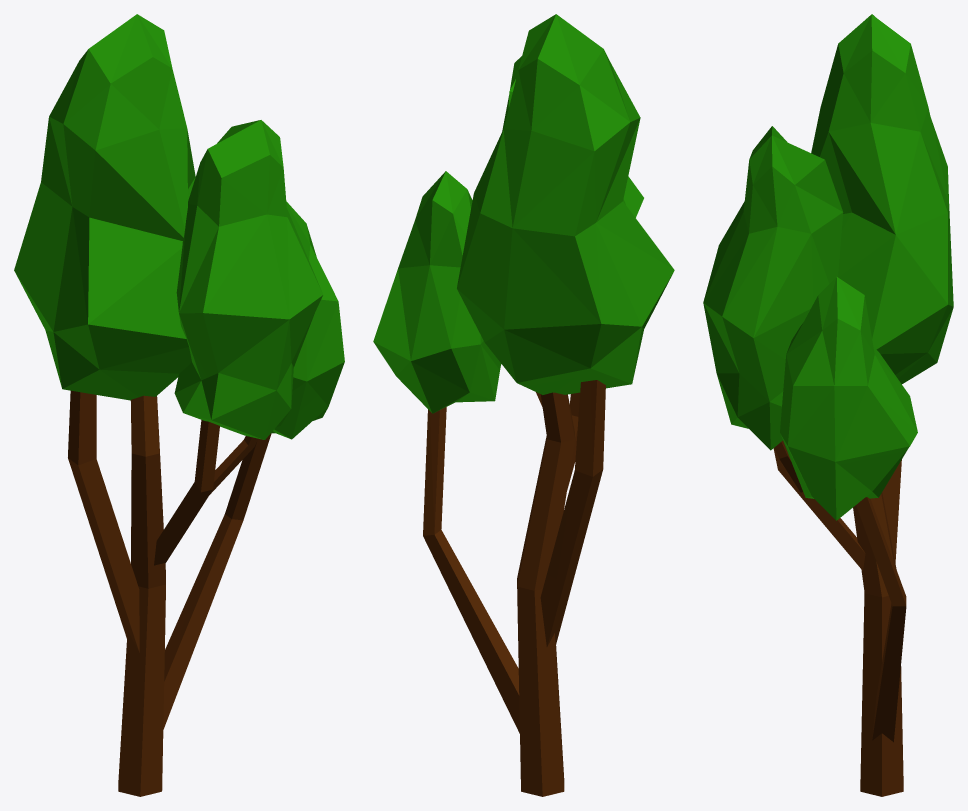
Rendered from Tree_temp_climate_011.FBX.
3 views of the same model, side by side, from view 1: azimuth 30°, elevation 25°; view 2: azimuth 150°, elevation 25°; view 3: azimuth 270°, elevation 25° (orthographic).
Visible parts, largest first — view 1: Tree_temp_climate_011; view 2: Tree_temp_climate_011; view 3: Tree_temp_climate_011.
Part boxes in pixels (box(x1,y1,x2,y2)): Tree_temp_climate_011: box(14, 14, 344, 796); Tree_temp_climate_011: box(373, 14, 674, 796); Tree_temp_climate_011: box(703, 14, 953, 796).
Size of the model in its own units: 176 by 509 by 150.
